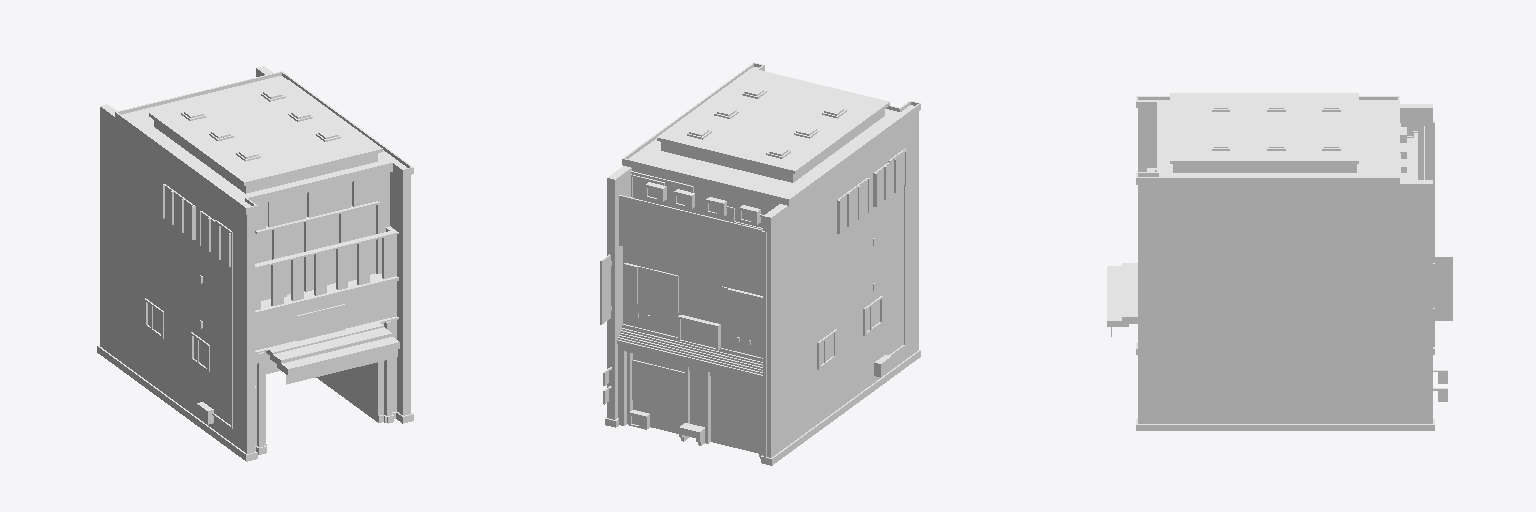
The model's file is GDS2_Market-0.obj.
3 renders of one model, left to right at view 1: azimuth 30°, elevation 25°; view 2: azimuth 150°, elevation 25°; view 3: azimuth 270°, elevation 25°, orthographic.
Visible parts, largest first — view 1: GDS2_Market-0; view 2: GDS2_Market-0; view 3: GDS2_Market-0.
Part boxes in pixels (bbox=[...]): GDS2_Market-0: bbox=[97, 66, 413, 461]; GDS2_Market-0: bbox=[600, 62, 920, 465]; GDS2_Market-0: bbox=[1107, 93, 1452, 430].
Size of the model in its own units: 10.8 by 16 by 18.8.